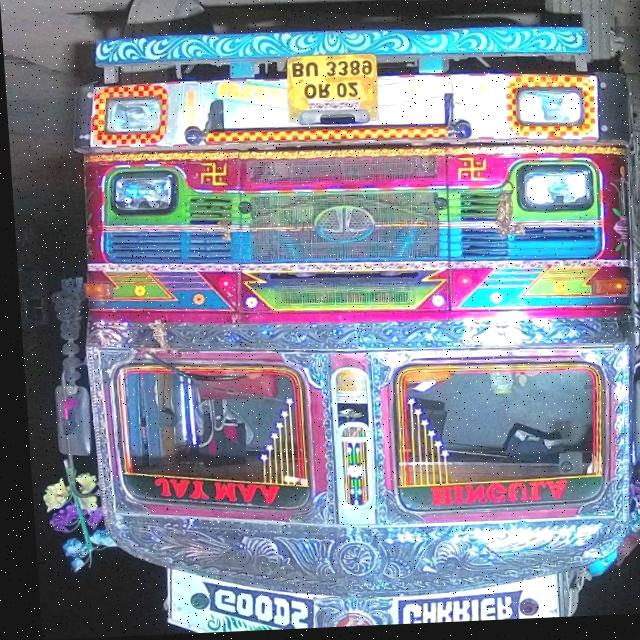plate: (287, 59, 378, 107)
